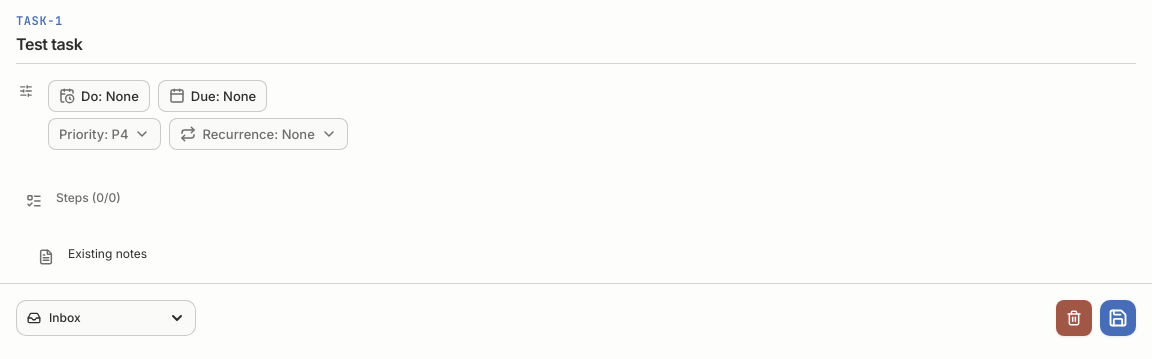
Scenario: TaskView - edit mode › renders the notes row and syncs edits back
The image size is (1152, 359).
Later steps or results of the test are not shown.
Click the button "Existing notes".
click(108, 254)  # box left=68, top=246, right=147, bottom=261
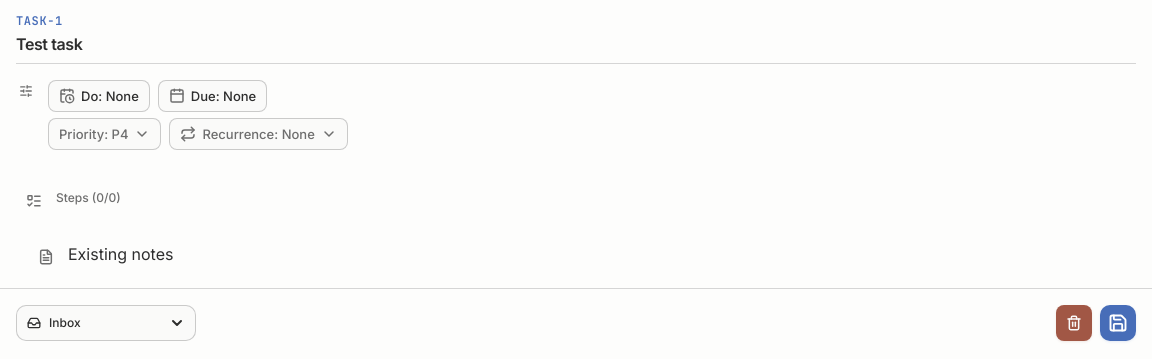
Expected: the text box named "notes" holds "Existing notes", left=68, top=244, right=1116, bottom=266
